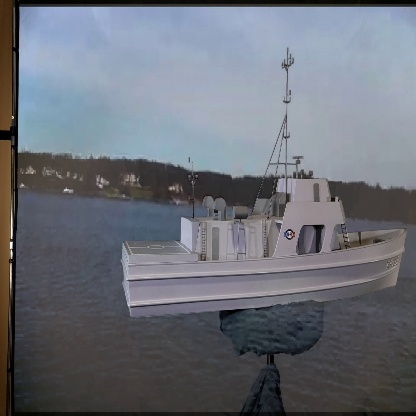YP689: (121, 45, 408, 320)
